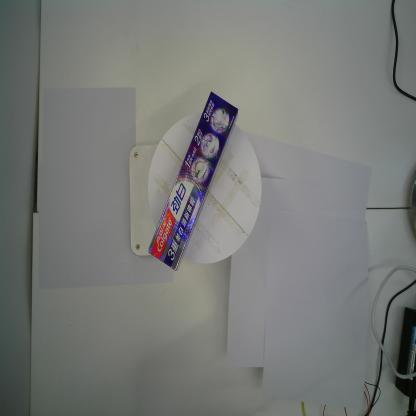Personal Hygiene: (146, 90, 239, 272)
